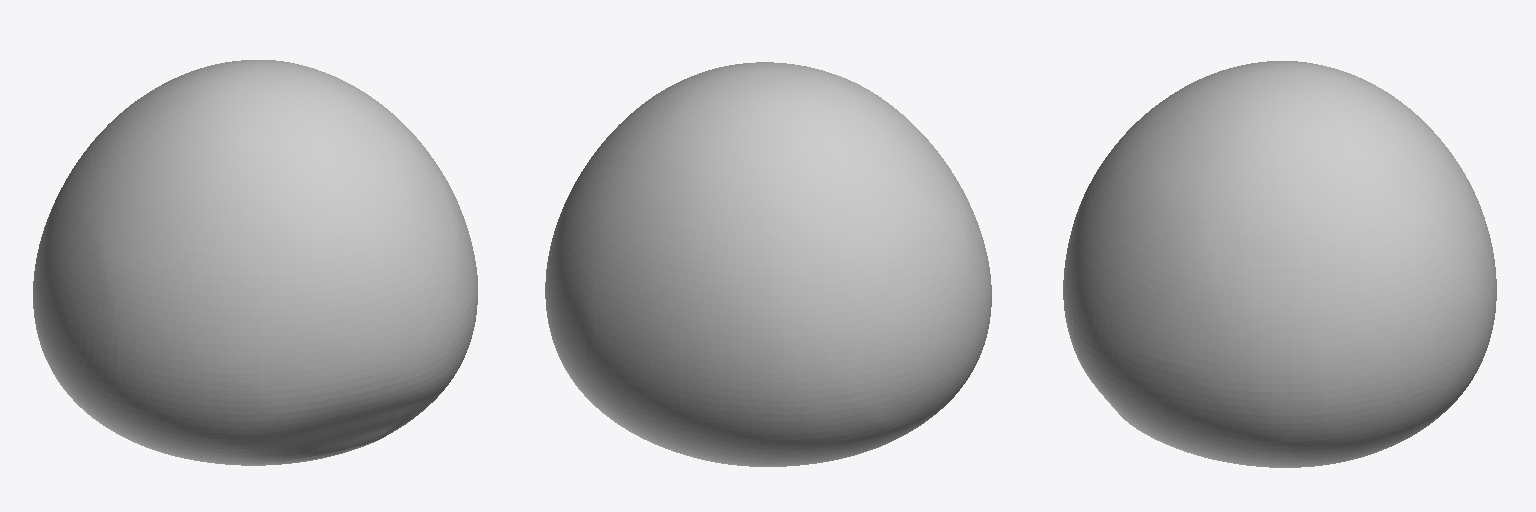
Rendered from SubTool-0-6651606.OBJ.
The picture shows the model from 3 angles: view 1: azimuth 30°, elevation 25°; view 2: azimuth 150°, elevation 25°; view 3: azimuth 270°, elevation 25°; orthographic projection.
Parts seen in each view (by area): view 1: ZBrush_defualt_group; view 2: ZBrush_defualt_group; view 3: ZBrush_defualt_group.
Boxes of the visible parts, x1,y1,x2,y2 form: ZBrush_defualt_group: [33, 60, 477, 465]; ZBrush_defualt_group: [545, 62, 991, 466]; ZBrush_defualt_group: [1063, 61, 1496, 467].
Bounding box in the file's own units: 2.23 × 1.95 × 2.16.